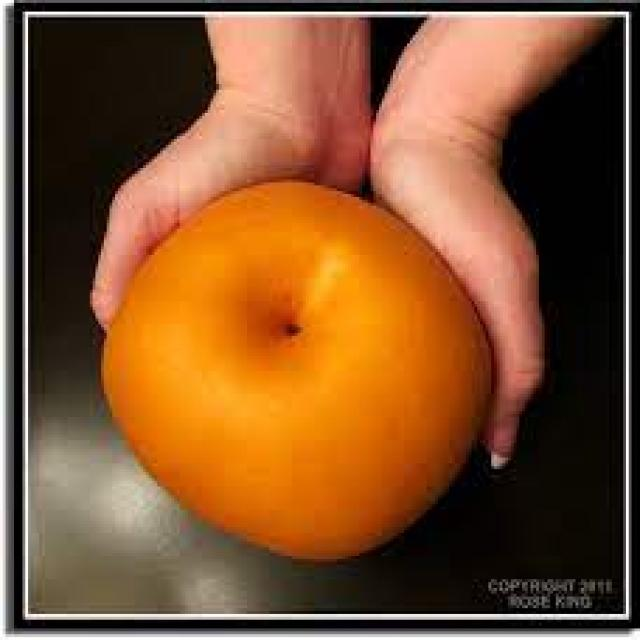pear: (104, 182, 494, 560)
